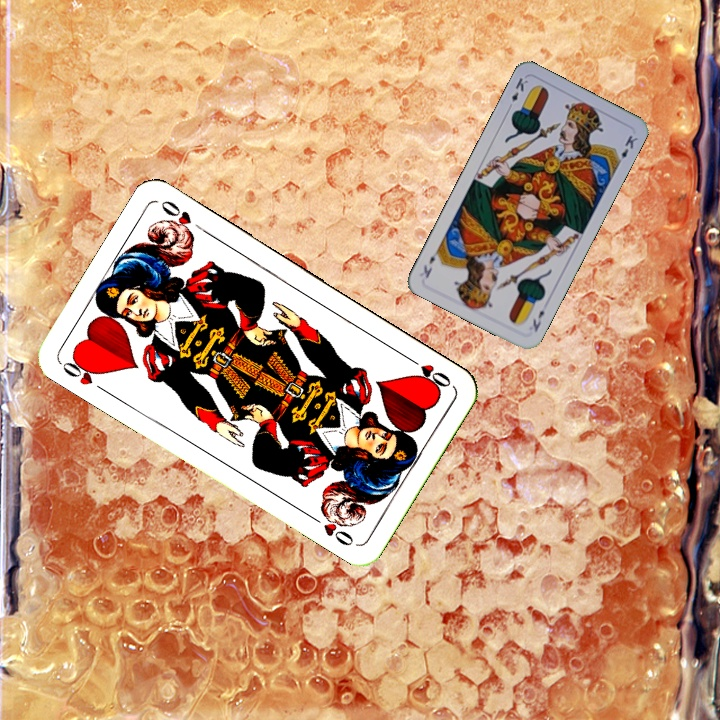EK: (504, 74, 531, 112), (529, 306, 547, 334)
HO: (58, 351, 110, 396), (402, 352, 454, 390)
